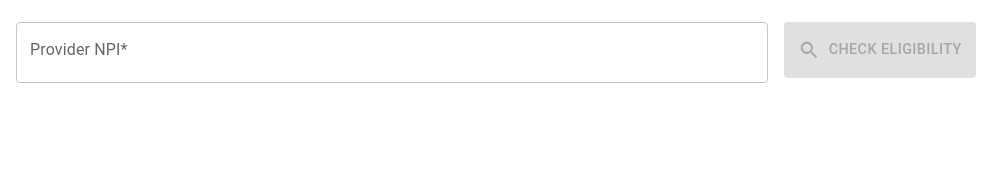
it: NPISearch Component › handles API error gracefully
The image size is (994, 172).
Type "1234567890" into the field labelled "Provider NPI*" at (392, 52), box [16,22,768,83]
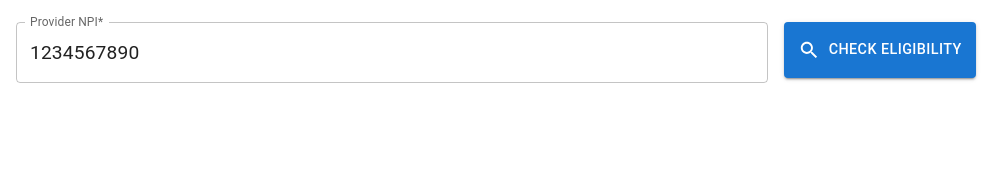
Click the button "Check Eligibility" at (880, 50), box [784,22,976,78]
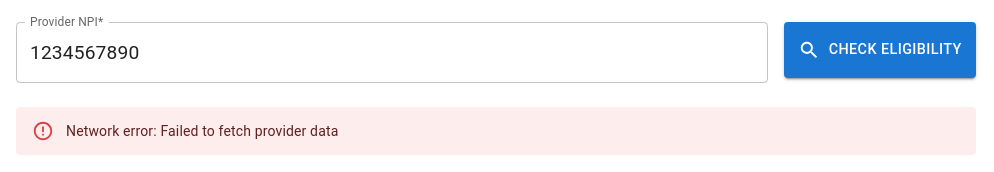
Expected: the text "Network error: Failed to fetch provider data" is shown, [66,123,338,139]
